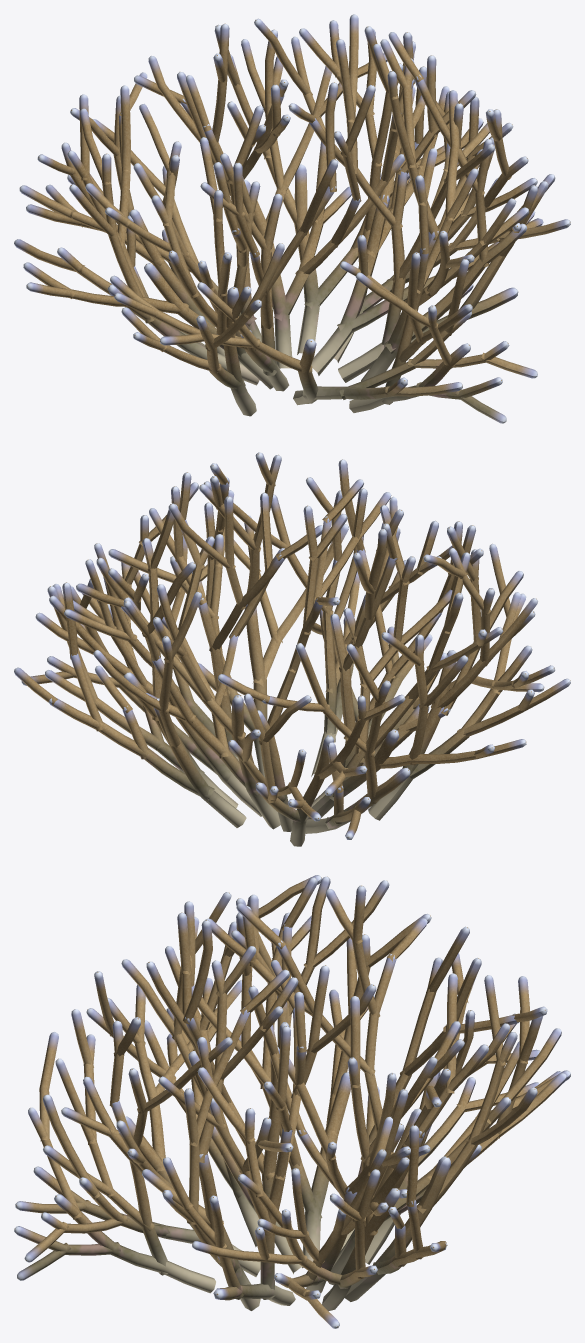
Rendered from Coral_Branch_A.gltf.
3 renders of one model, top to bottom at view 1: azimuth 30°, elevation 25°; view 2: azimuth 150°, elevation 25°; view 3: azimuth 270°, elevation 25°, orthographic. The views are drawn at different scales.
Parts seen in each view (by area): view 1: Coral_Branch_A; view 2: Coral_Branch_A; view 3: Coral_Branch_A.
Part boxes in pixels (<box>): Coral_Branch_A: <box>14,14,570,423</box>; Coral_Branch_A: <box>14,452,570,846</box>; Coral_Branch_A: <box>14,875,570,1328</box>.
Size of the model in its own units: 1.38 by 0.8971 by 1.2.
Materials: 1 (1 with a texture image).
